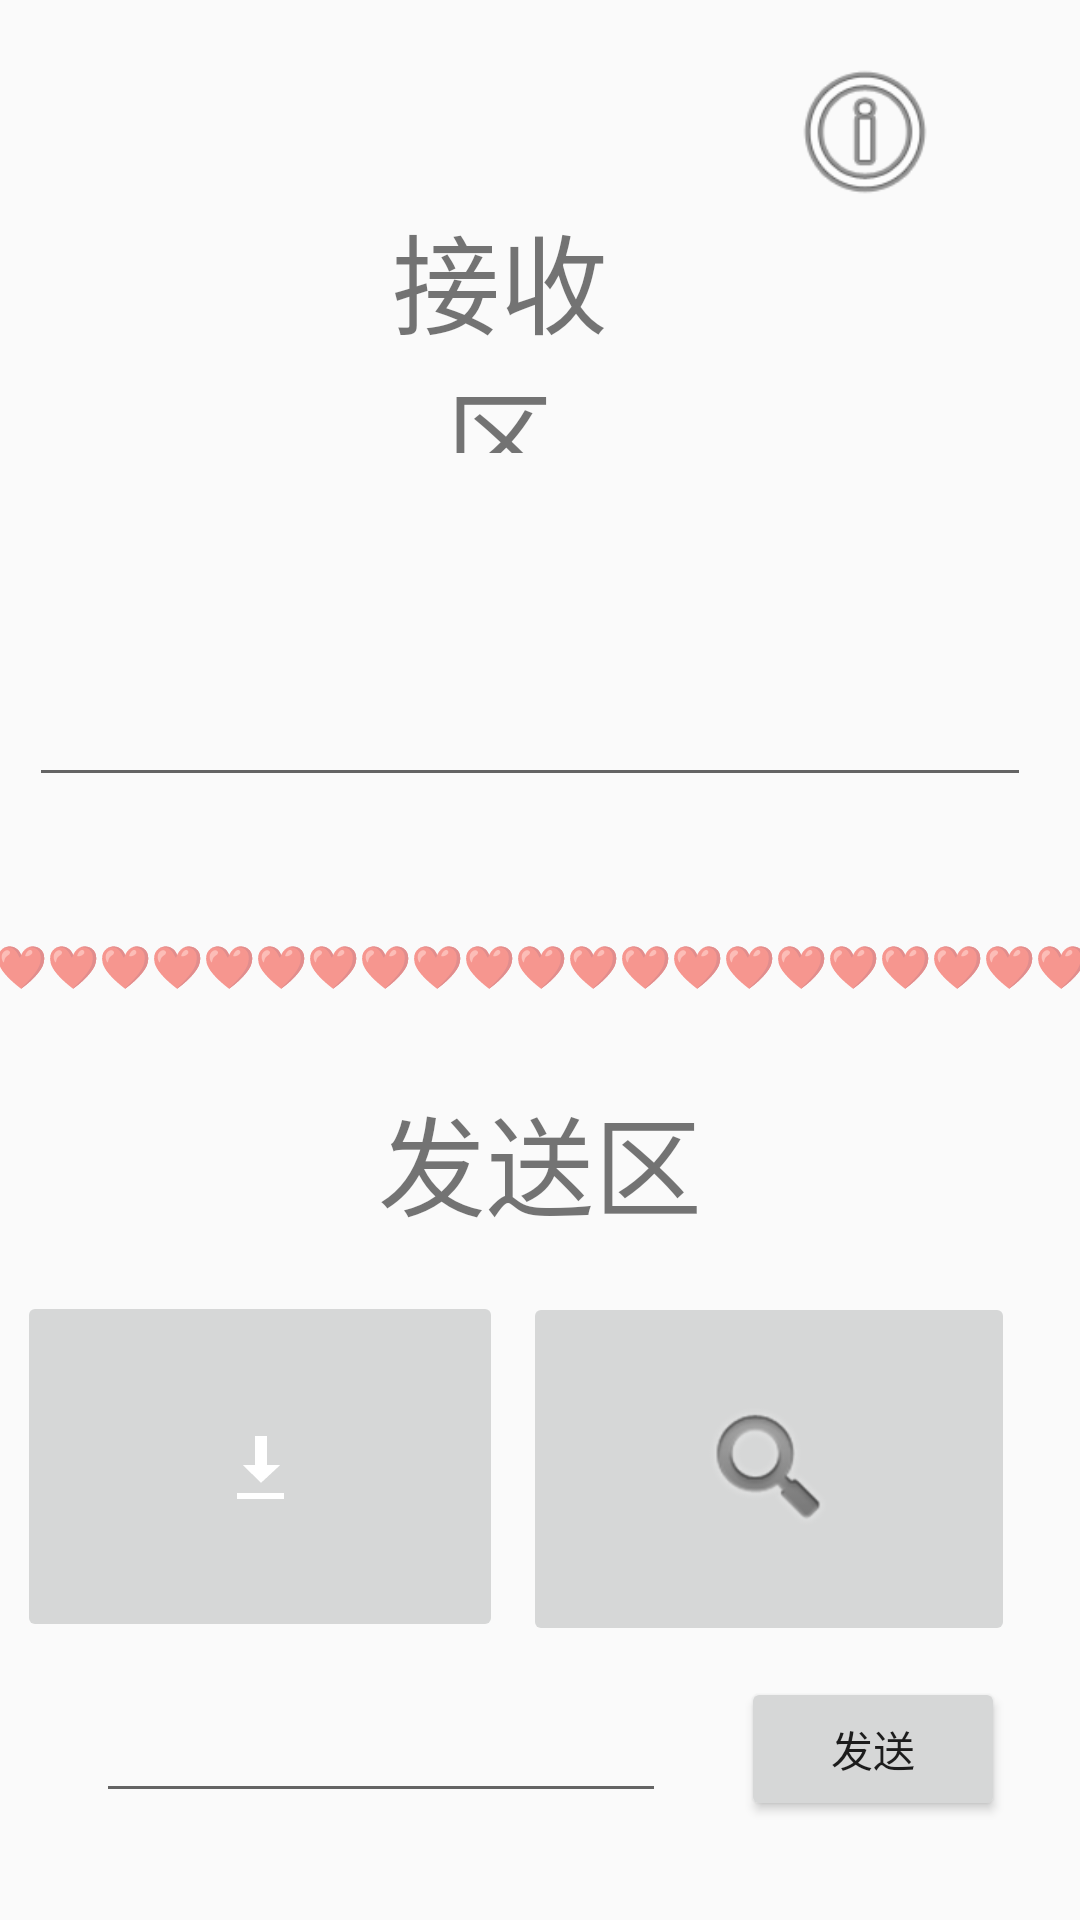

Icon click points for this 1080*1920 phone screenshot, format (x,y):
info details: (865,132)
